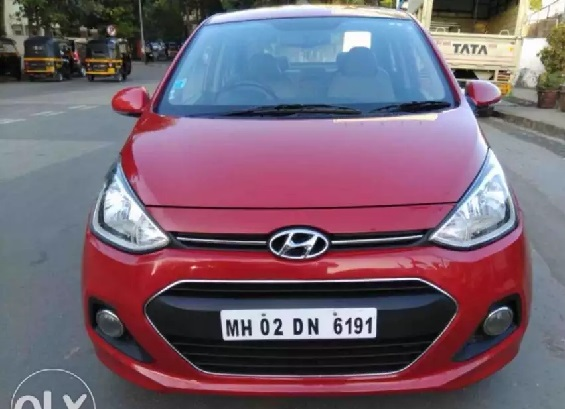licenseplate: (216, 307, 379, 341)
